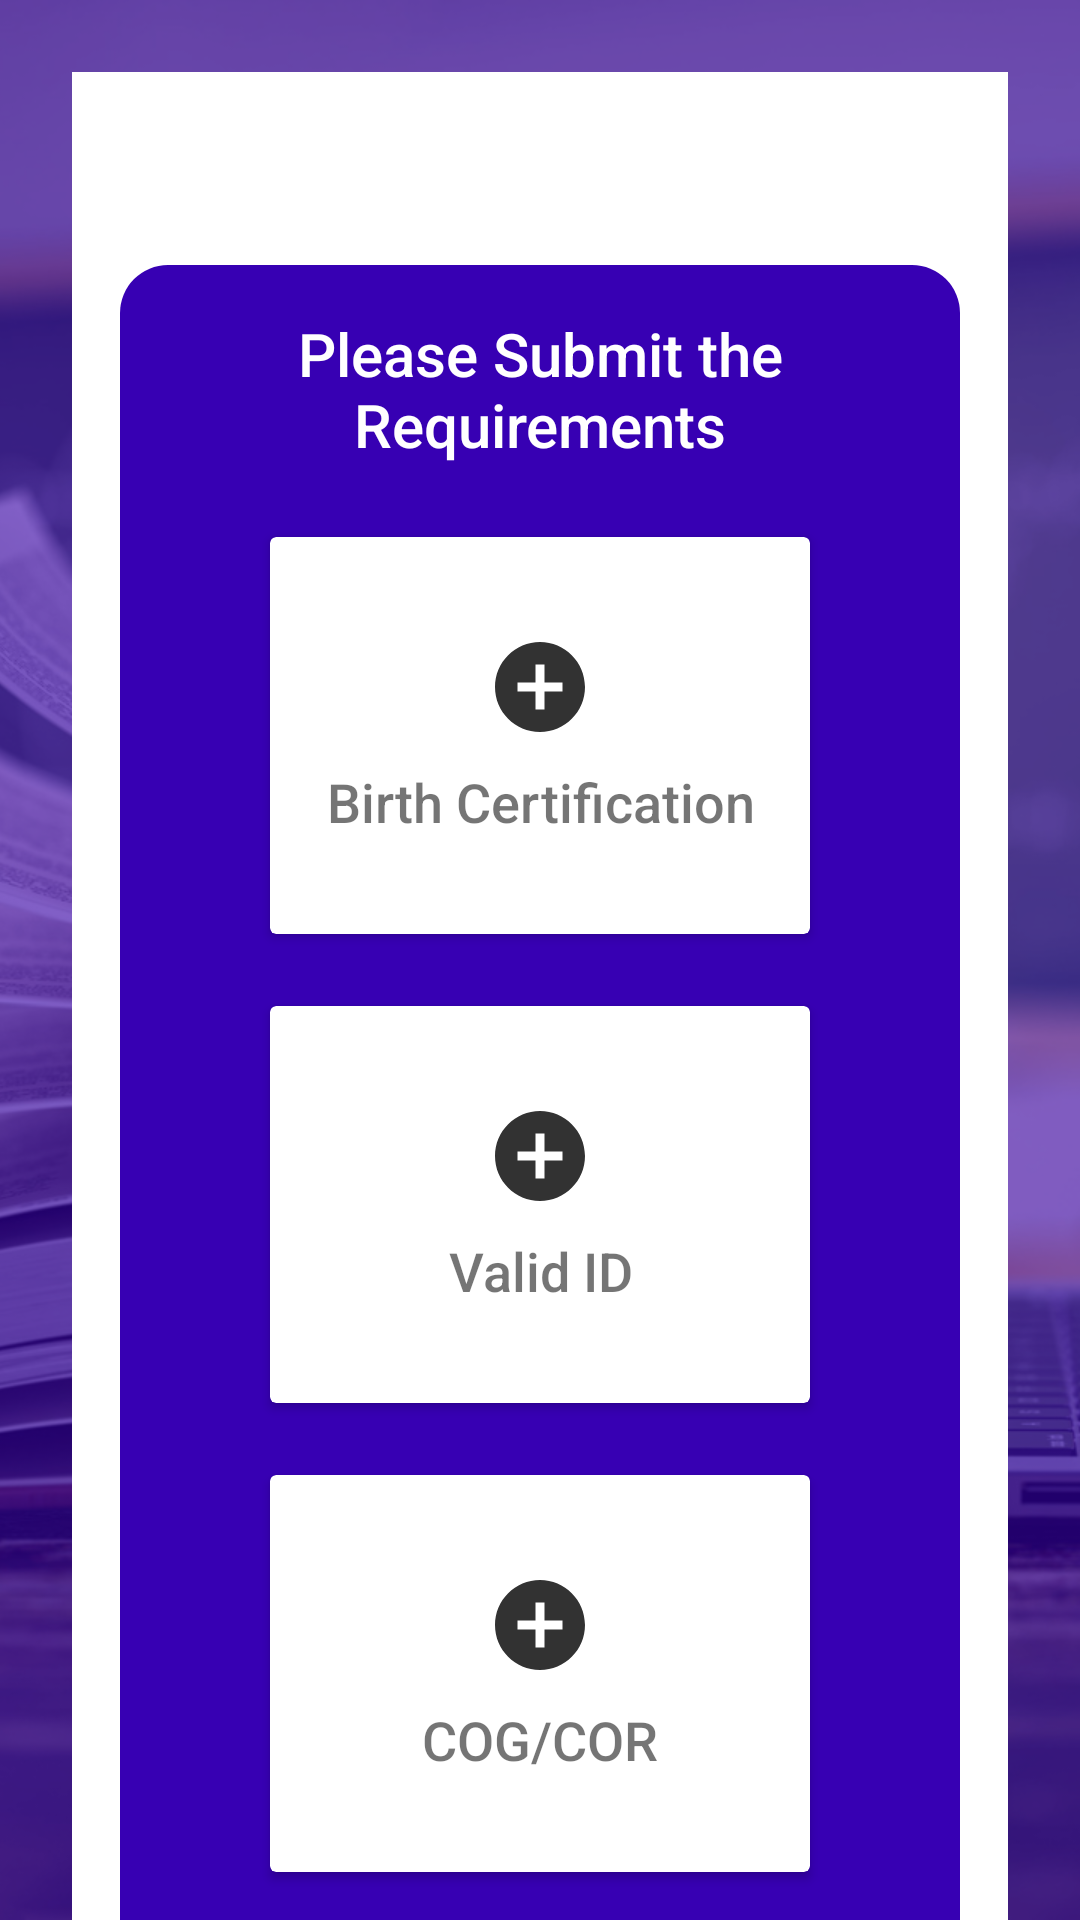

Where icons sit on this 1080w x 1920h app screen, as box=[x1, y1, x2, y2]:
add circle: box=[495, 642, 585, 732], box=[495, 1111, 585, 1201], box=[495, 1580, 585, 1670]
